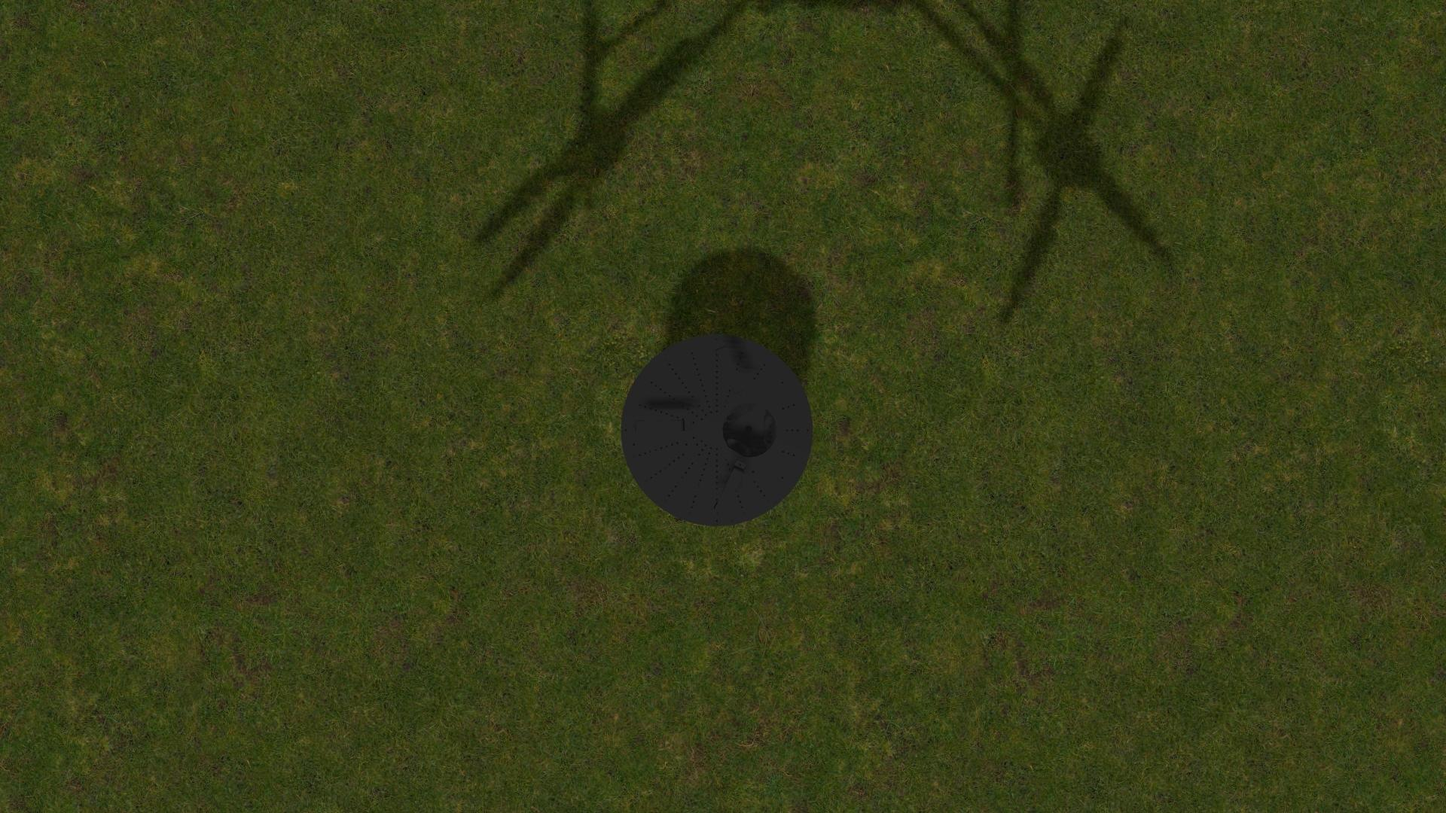alca: (711, 459, 747, 517), (713, 341, 747, 399), (632, 419, 691, 433)
armadilha: (621, 334, 813, 526)
